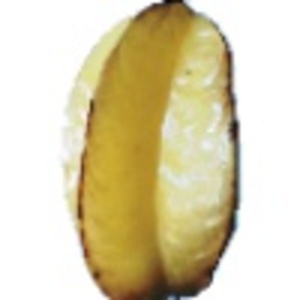carambola: (62, 1, 244, 300)
